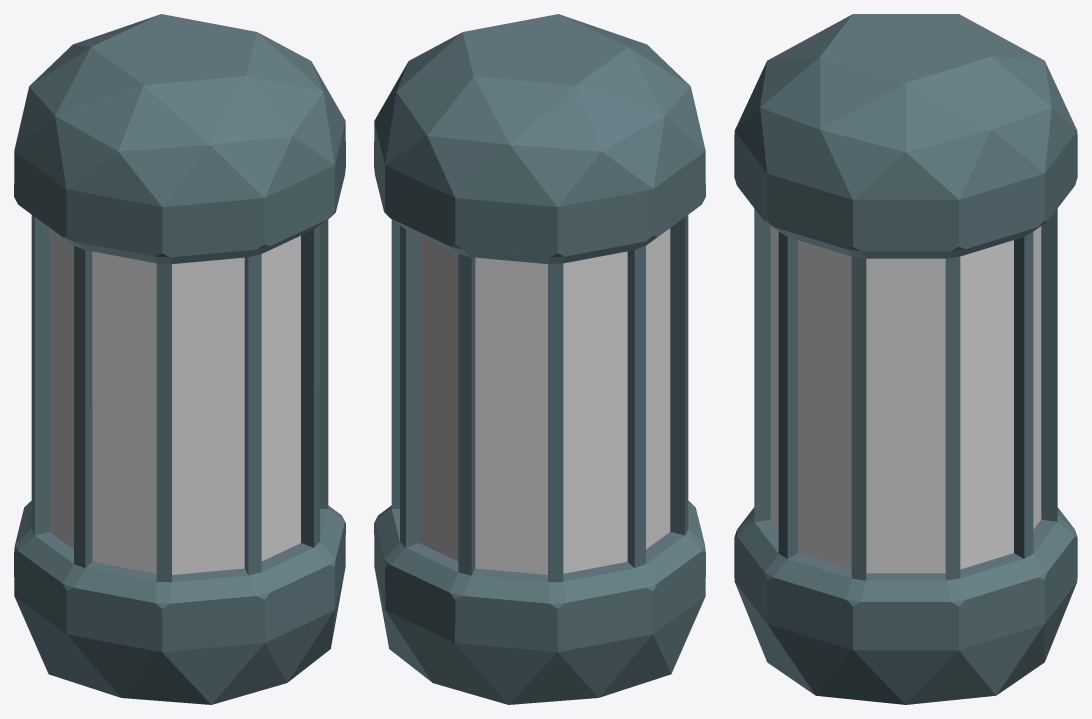
Rendered from power.fbx.
The picture shows the model from 3 angles, left to right: view 1: azimuth 30°, elevation 25°; view 2: azimuth 150°, elevation 25°; view 3: azimuth 270°, elevation 25°; orthographic projection.
Visible parts, largest first — view 1: Icosphere; view 2: Icosphere; view 3: Icosphere.
Boxes of the visible parts, box(x1,y1,x2,y2) form: Icosphere: box(14, 14, 345, 704); Icosphere: box(374, 14, 705, 704); Icosphere: box(734, 14, 1077, 704).
Size of the model in its own units: 617 by 1249 by 649.
